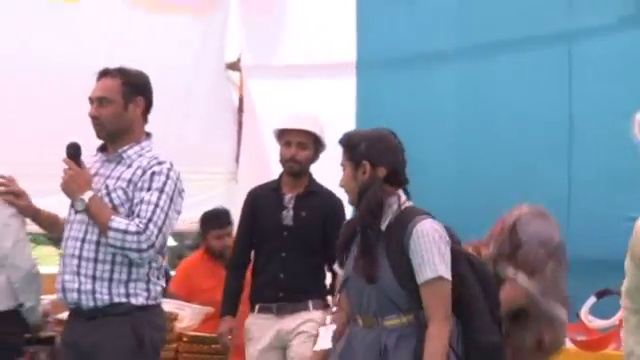helmet: (157, 296, 215, 333), (273, 112, 328, 145)
helmet_off: (72, 70, 159, 145), (334, 131, 412, 213), (486, 202, 571, 271), (198, 205, 235, 262)
helmet_on: (274, 110, 329, 185)
person: (0, 66, 182, 360), (309, 130, 476, 360), (227, 120, 347, 353), (484, 202, 577, 355), (164, 204, 252, 360), (0, 177, 36, 360)
